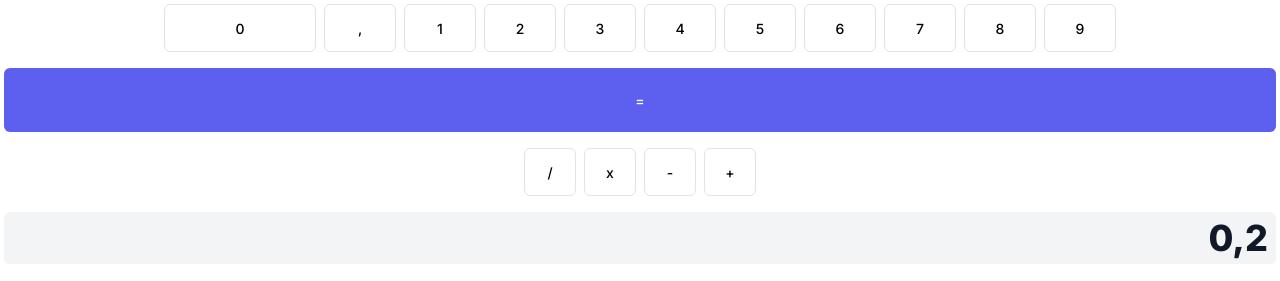
Test Calculations › Add operation
The image size is (1280, 281).
Click the button "=": (640, 100) 4,68 -> 1276,132
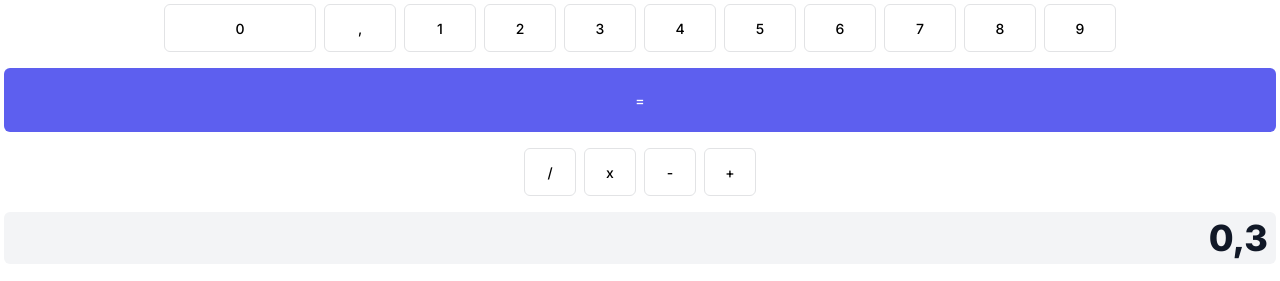
expect the text "0,3" is shown: met, box 4,212 -> 1276,264
